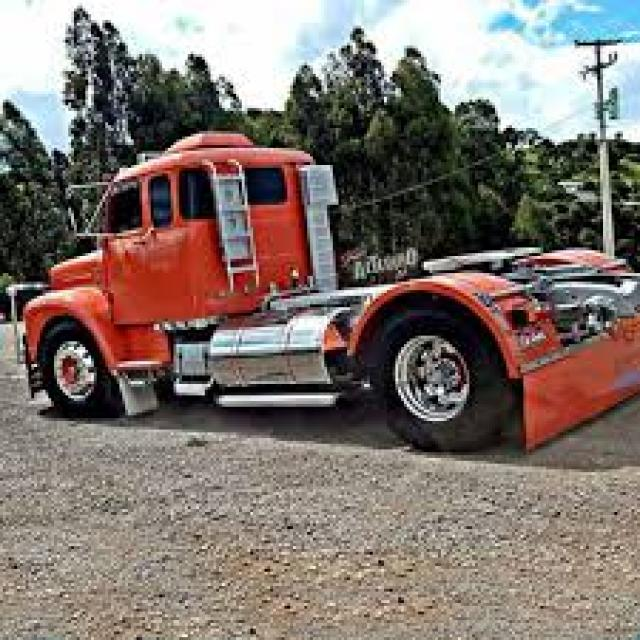truck: (14, 97, 640, 499)
